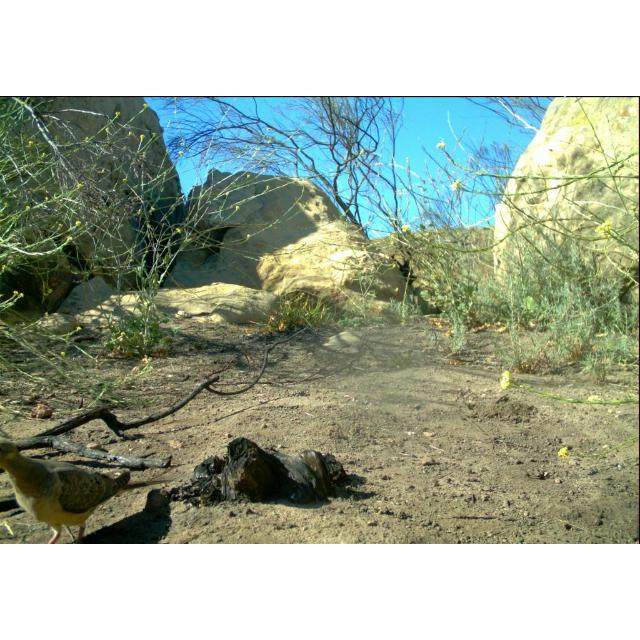animals: (0, 434, 134, 544)
